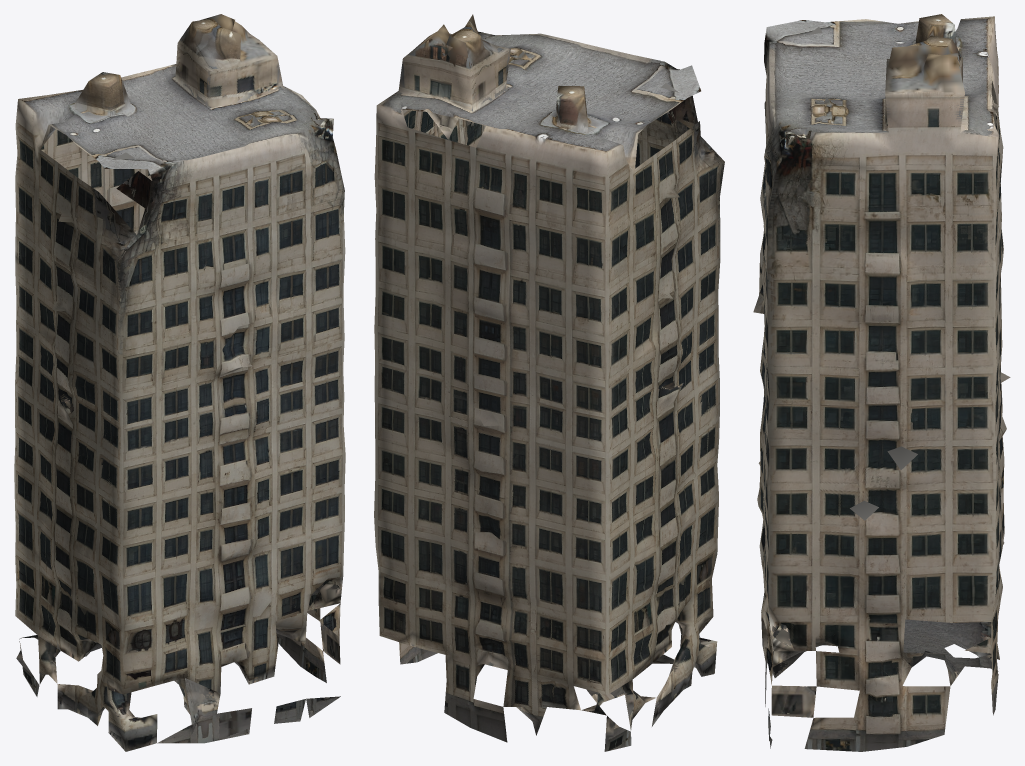
File: Sky_ResidentialBlock.glb
3 views of the same model, side by side, from view 1: azimuth 30°, elevation 25°; view 2: azimuth 150°, elevation 25°; view 3: azimuth 270°, elevation 25° (orthographic). The views are drawn at different scales.
Parts seen in each view (by area): view 1: texture_mapping; view 2: texture_mapping; view 3: texture_mapping.
Boxes of the visible parts, <box> form: texture_mapping: <box>14,14,345,751</box>; texture_mapping: <box>374,14,724,751</box>; texture_mapping: <box>753,14,1010,751</box>.
Size of the model in its own units: 0.396 by 0.9974 by 0.335.
Materials: 1 (1 with a texture image).
